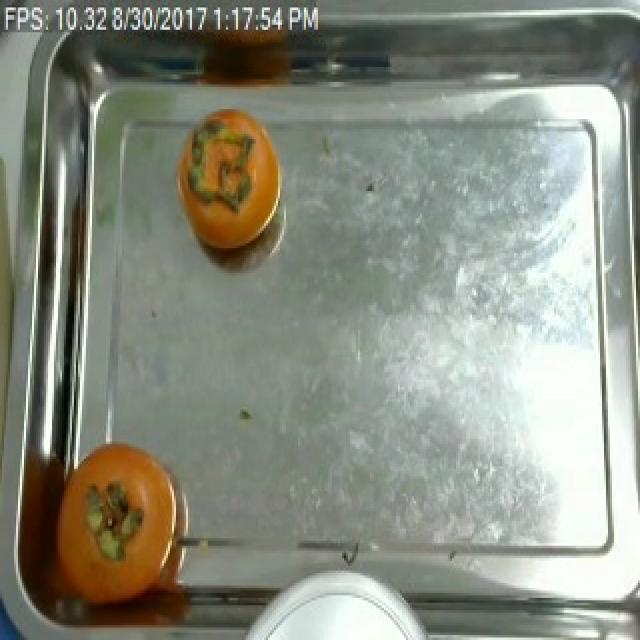Fruit: (42, 424, 198, 635), (172, 97, 288, 263)
